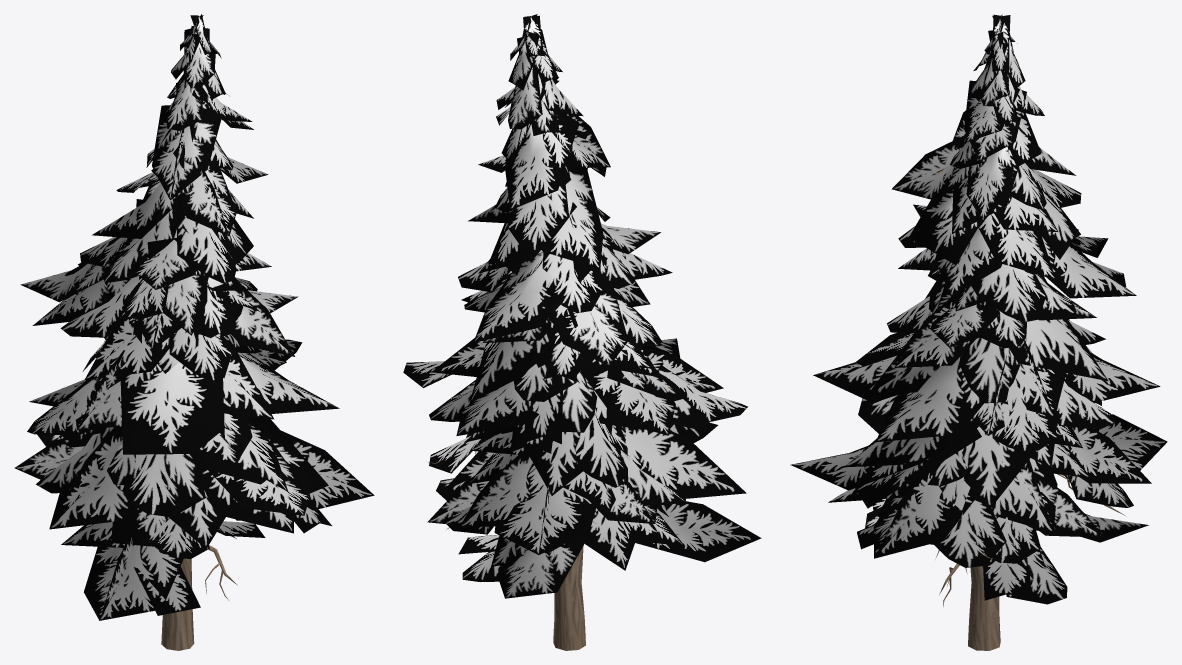
File: P_Pine01_Snowy.obj
3 renders of one model, left to right at view 1: azimuth 30°, elevation 25°; view 2: azimuth 150°, elevation 25°; view 3: azimuth 270°, elevation 25°, orthographic. The views are drawn at different scales.
Size of the model in its own units: 8.22 by 15.85 by 8.43.
